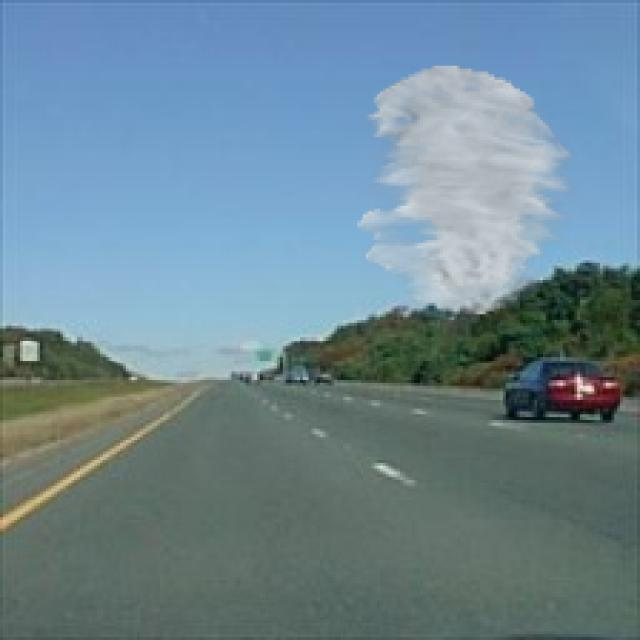smoke: (357, 66, 574, 314)
